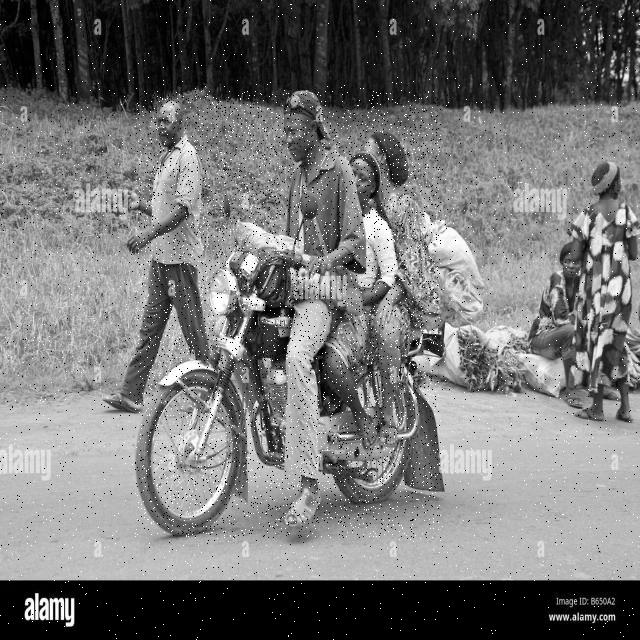Motorbike: (135, 91, 441, 538)
